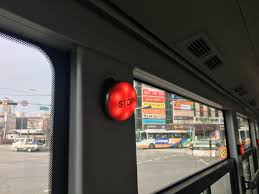bell: (101, 79, 139, 124)
